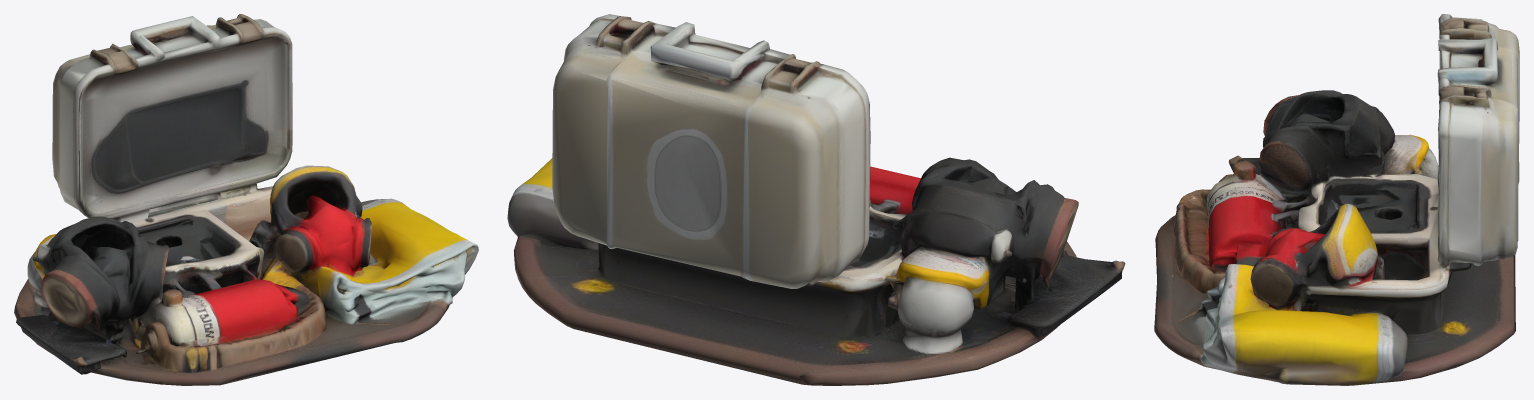
File: Meshy_AI_Emergency_Gear_source.glb
3 views of the same model, side by side, from view 1: azimuth 30°, elevation 25°; view 2: azimuth 150°, elevation 25°; view 3: azimuth 270°, elevation 25° (orthographic). The views are drawn at different scales.
Bounding box in the file's own units: 2 × 1.08 × 1.49.
Materials: 1 (1 with a texture image).
